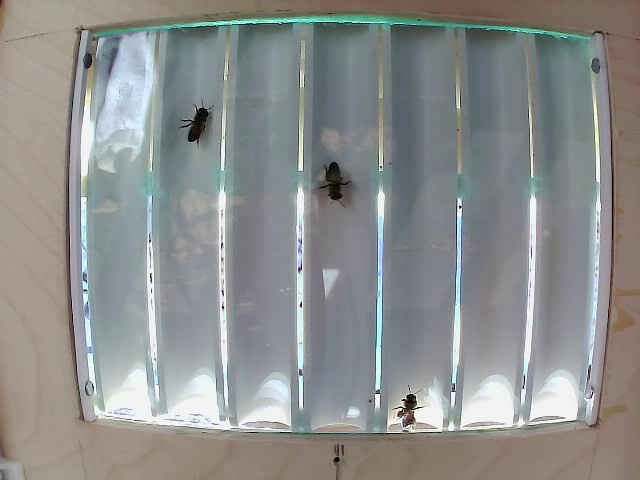bee: (311, 154, 359, 224), (182, 99, 221, 165), (388, 374, 431, 428)
